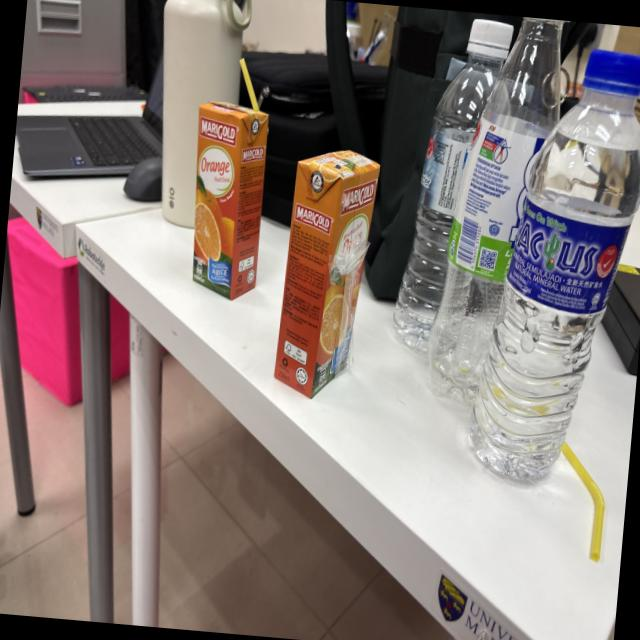drink_carton: (266, 140, 384, 407), (180, 44, 284, 310)
plastic_bottle: (450, 31, 640, 553), (418, 10, 582, 412), (386, 8, 522, 375)
